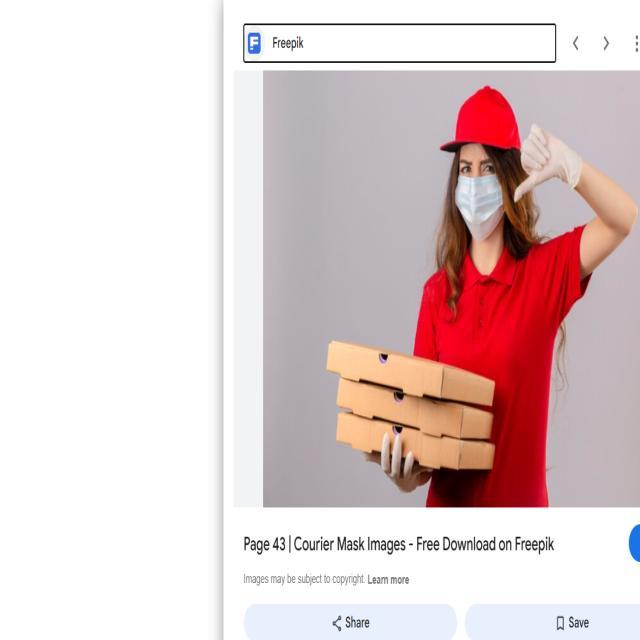face_mask: (454, 143, 506, 254)
